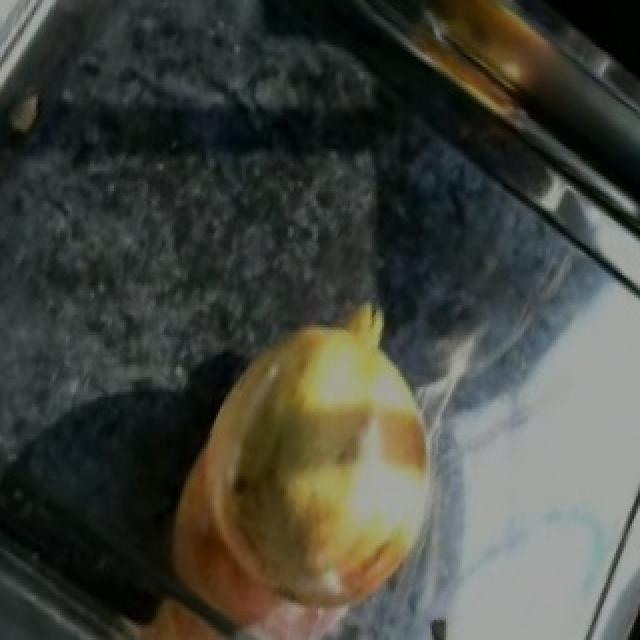fruit: (190, 283, 460, 531)
